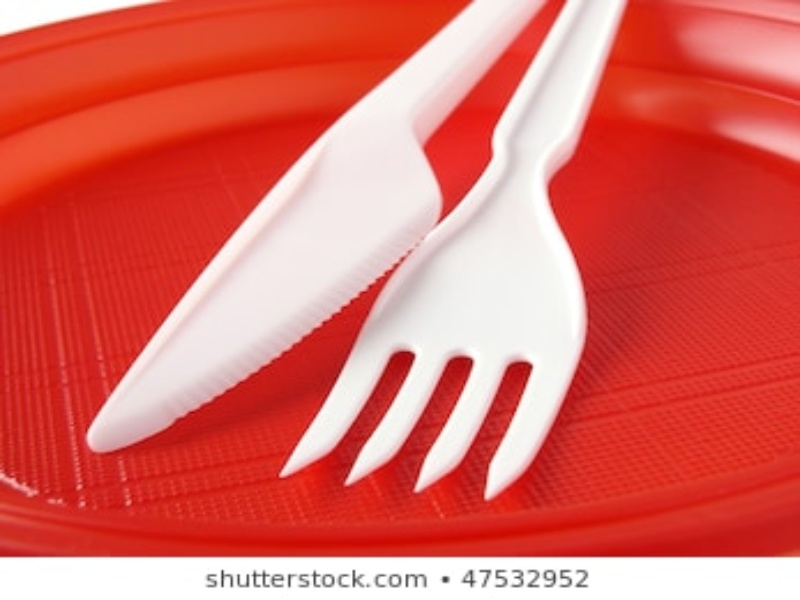plastic-silverware: (77, 1, 550, 453), (279, 1, 630, 504)
